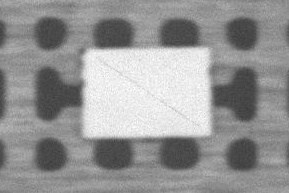DIE_CRACK: (144, 38, 289, 84)
